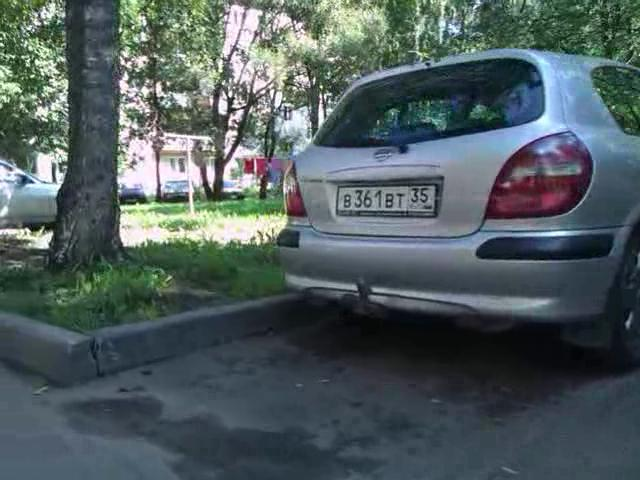car license plate: (333, 182, 441, 221)
